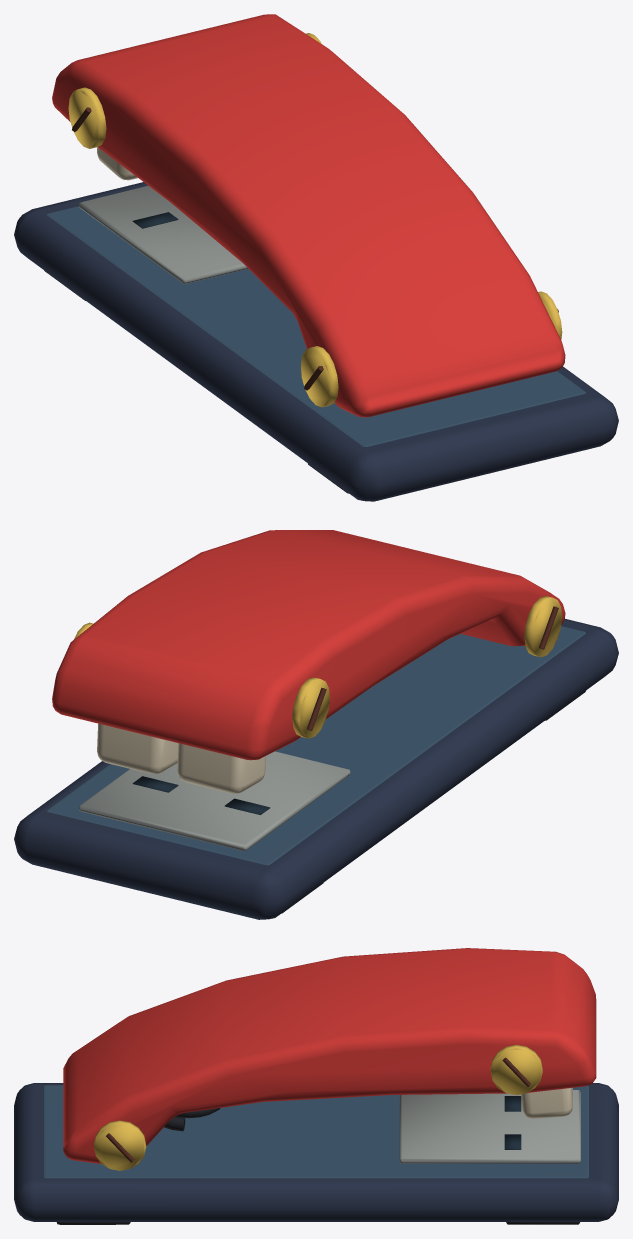
File: stapler.glb
3 renders of one model, top to bottom at view 1: azimuth 30°, elevation 25°; view 2: azimuth 150°, elevation 25°; view 3: azimuth 270°, elevation 25°, orthographic. The views are drawn at different scales.
Parts seen in each view (by area): view 1: CrocodileStapler_Geometry; view 2: CrocodileStapler_Geometry; view 3: CrocodileStapler_Geometry.
Part boxes in pixels (x1,y1,x2,y2): CrocodileStapler_Geometry: (14, 14, 618, 501); CrocodileStapler_Geometry: (14, 530, 618, 919); CrocodileStapler_Geometry: (14, 948, 618, 1224).
Size of the model in its own units: 0.7015 by 0.55 by 1.6.
